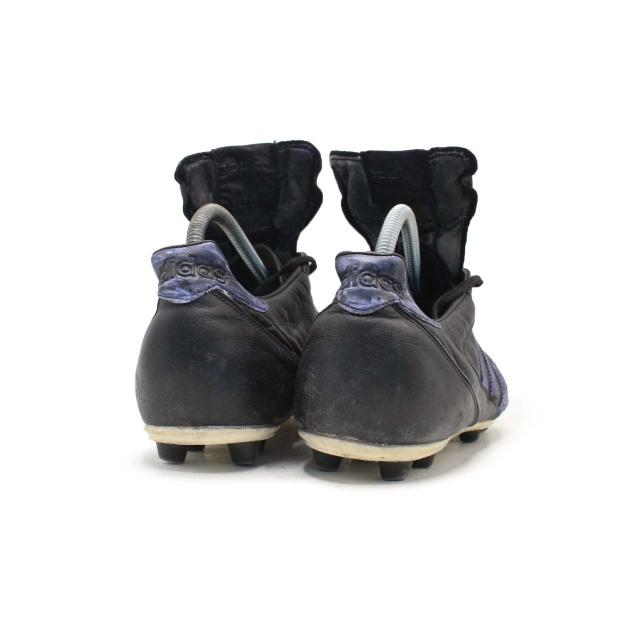heel: (307, 254, 463, 445), (130, 242, 282, 424)
midsole: (301, 419, 485, 478), (150, 414, 293, 469)
